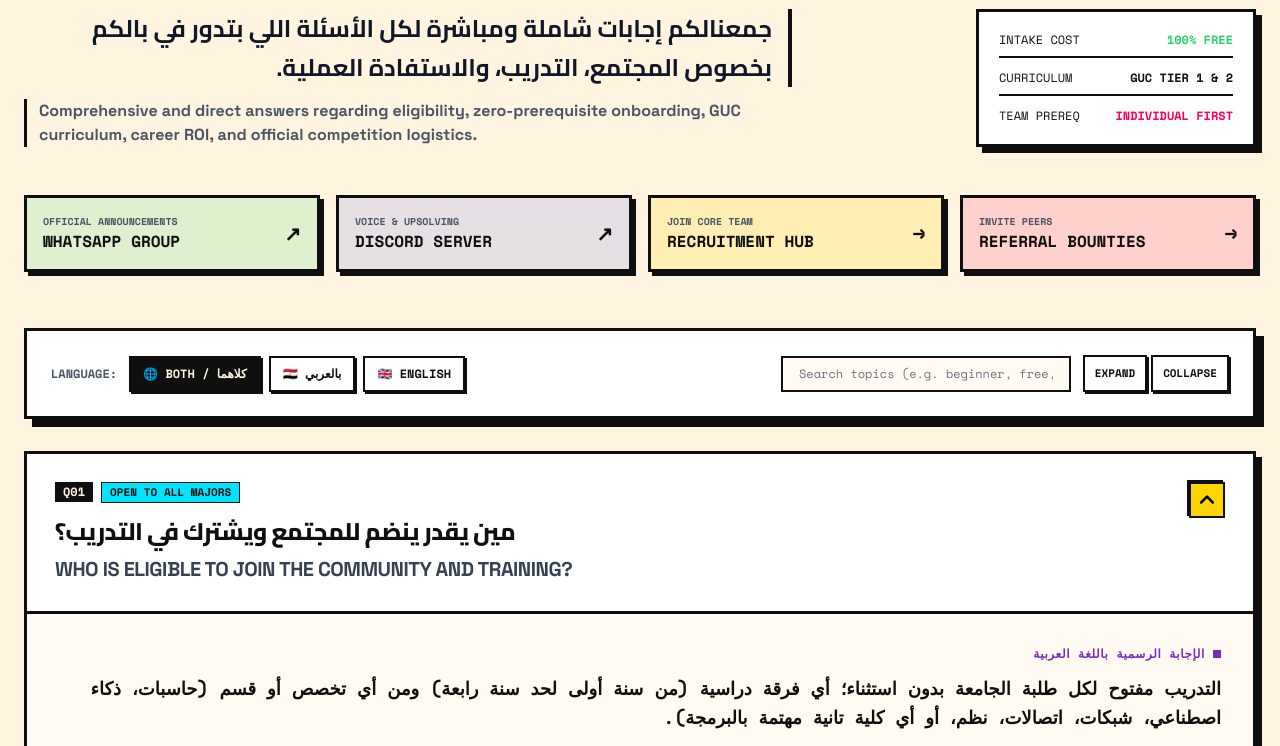
it: FAQPage › hides Arabic copy when English-only mode is selected
This screenshot has width=1280, height=746.
(page scrolled)
Click the button "🇬🇧 ENGLISH".
click(414, 374)  # box [363,356,465,392]
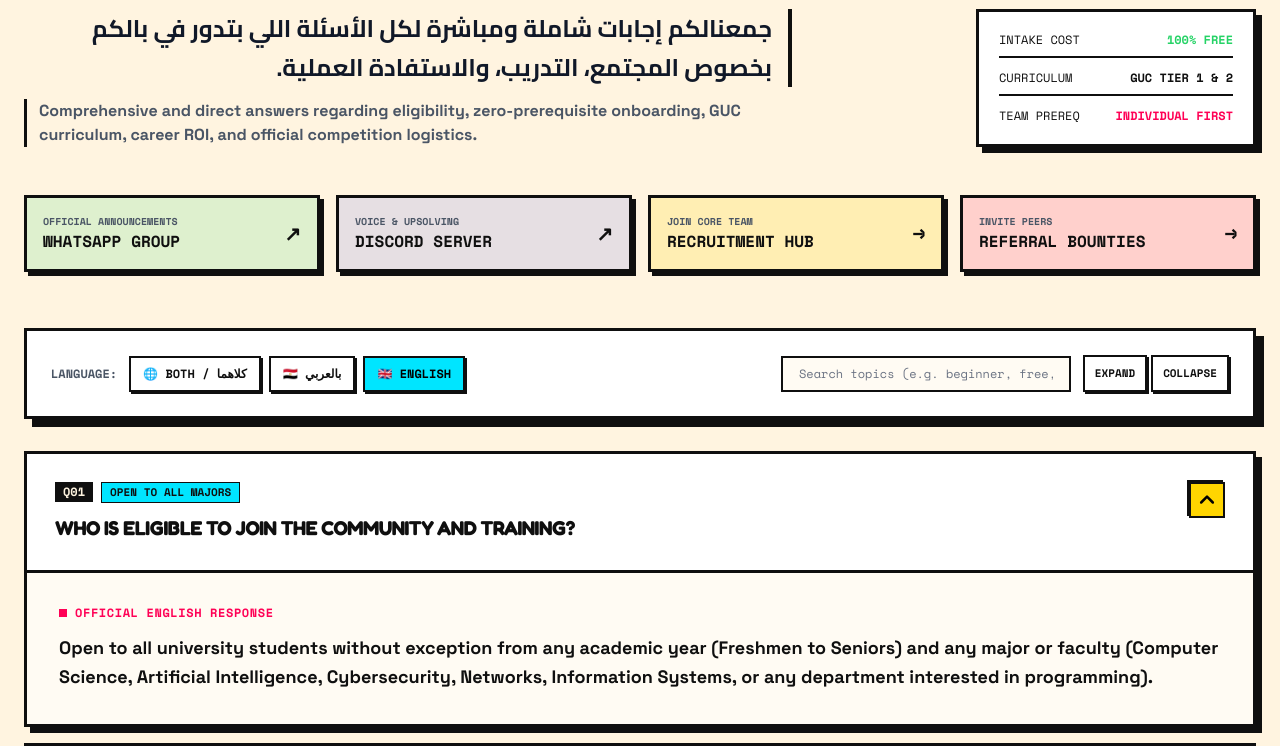
Expected: the heading "Who is eligible to join the community and training?" is shown, [55,516,575,540]
Expected: the heading "مين يقدر ينضم للمجتمع ويشترك في التدريب؟" is gone
